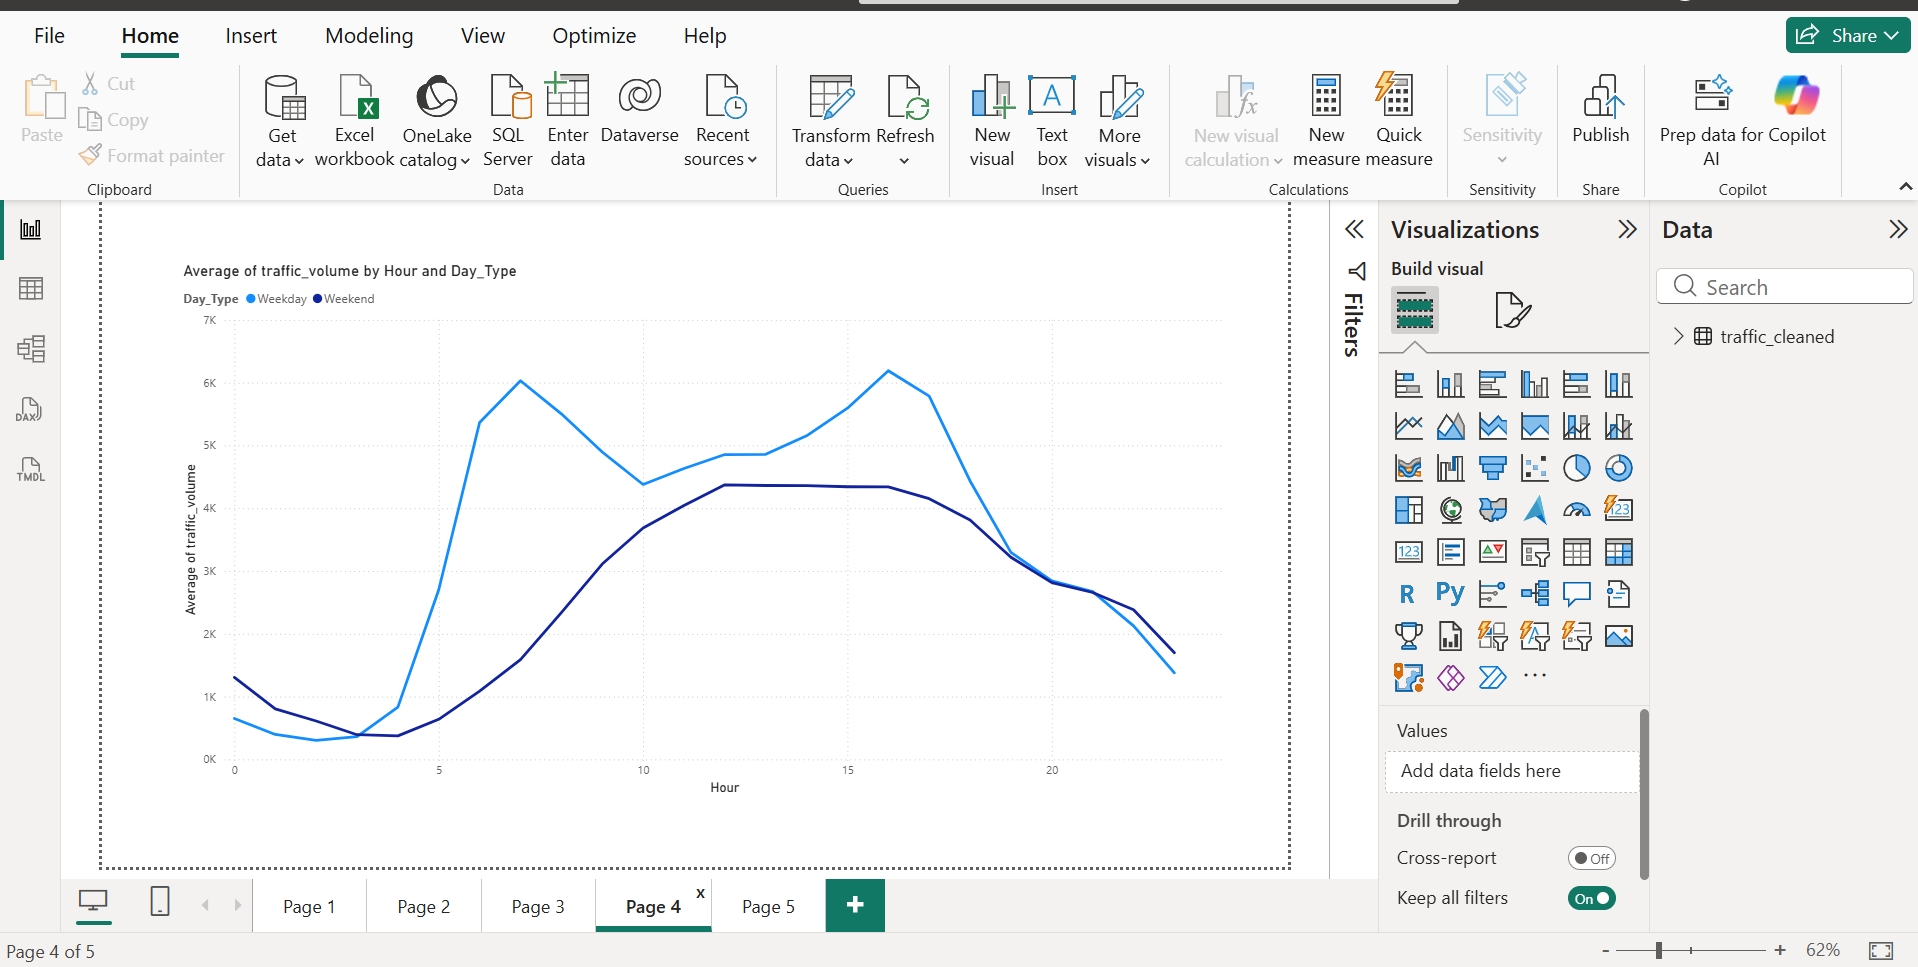

What the dashboard file says about the page in this screenshot:
{"tool":"powerbi","page":{"name":"Page 4","canvas":[1280,720],"ordinal":3},"visuals":[{"type":"lineChart","fields":{"Category":["traffic_cleaned.Hour"],"Y":["Avg(traffic_cleaned.traffic_volume)"],"Series":["traffic_cleaned.Day_Type"]},"box":[83.2,66.1,1133.9,580.2],"z":0}]}

Visuals, with their boxes on the page's 1280x720 design canvas (x1, y1, x2, y2). These are canvas units, not pixel positions in the 1918x967 screenshot, which may show the page scaled, cropped or inside an application window:
lineChart - traffic_cleaned.Hour x Avg(traffic_cleaned.traffic_volume): x1=83 y1=66 x2=1217 y2=646
